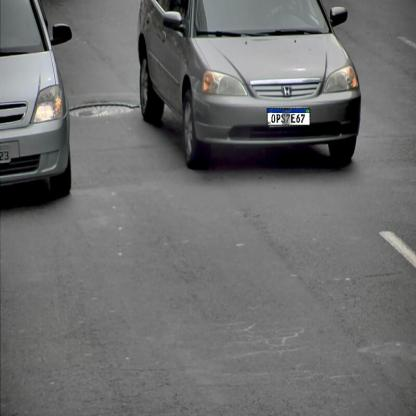PlacaM: (267, 108, 310, 126)
